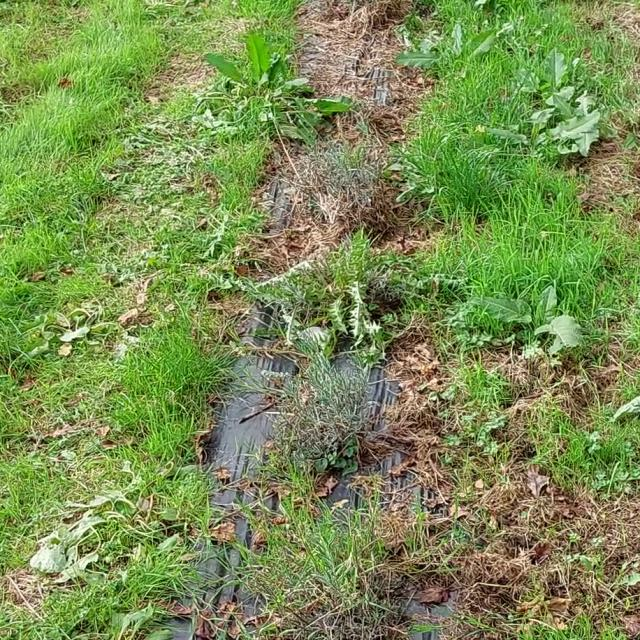organic waste: (196, 33, 329, 153), (18, 483, 138, 576), (387, 1, 508, 88), (8, 291, 154, 358), (472, 273, 592, 337), (475, 100, 578, 163), (538, 96, 622, 150), (508, 51, 584, 97)
